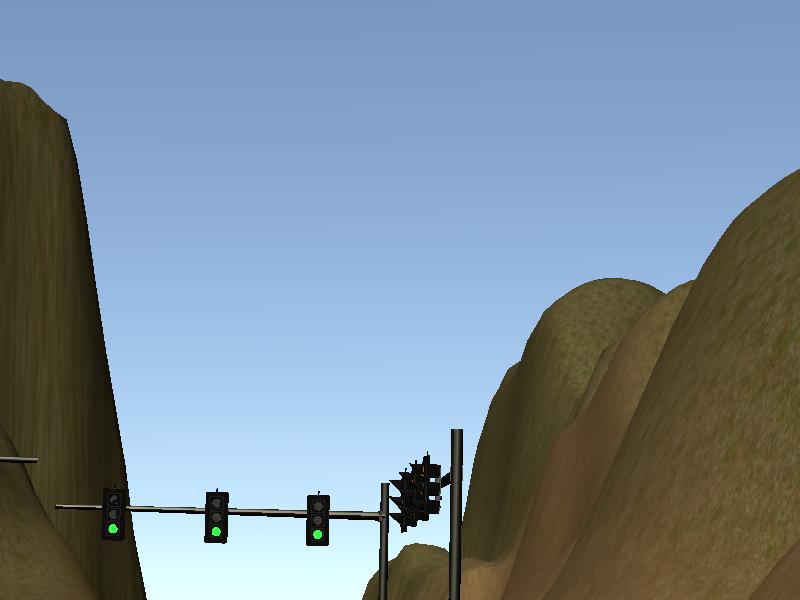green: (307, 493, 330, 547), (104, 488, 126, 541), (206, 491, 227, 542)
